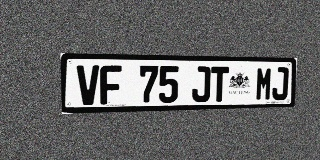5: (159, 66, 179, 103)
7: (138, 66, 159, 104)
F: (100, 65, 122, 105)
J: (192, 66, 211, 102), (272, 67, 289, 100)
M: (255, 67, 273, 101)
T: (210, 66, 229, 102)
V: (77, 65, 100, 105)
